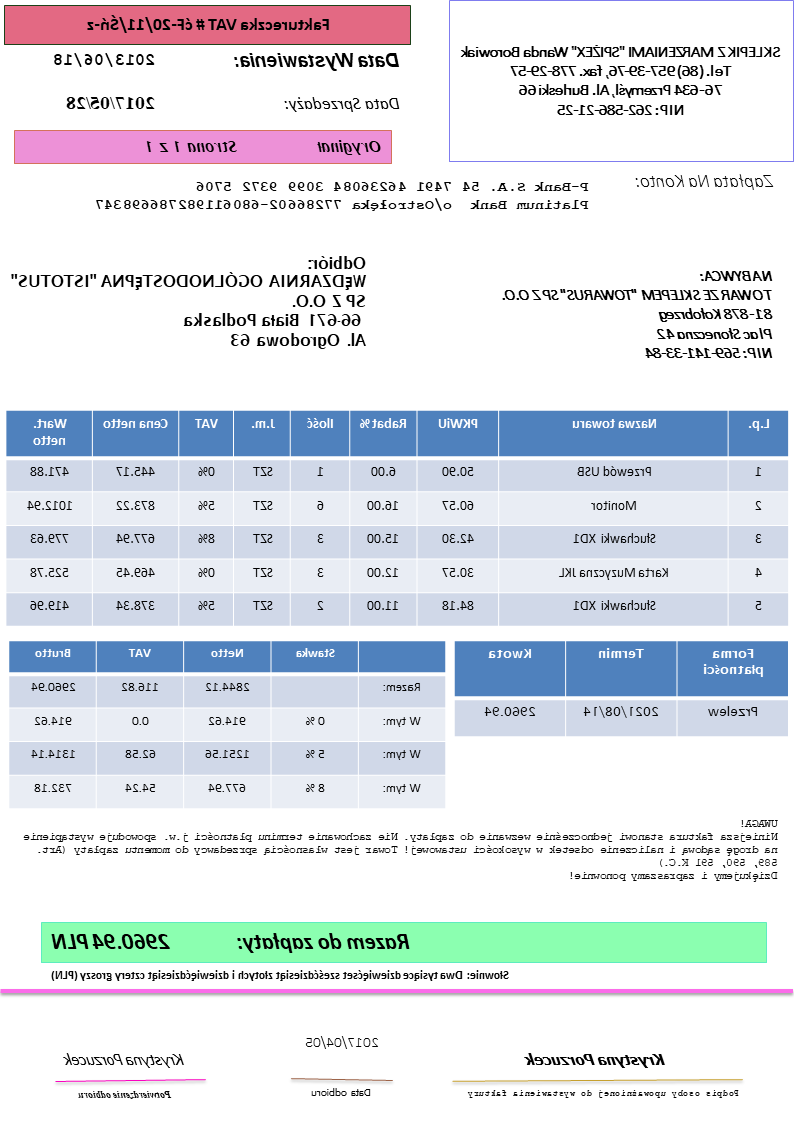Table: (4, 410, 790, 628), (6, 640, 447, 809), (454, 640, 791, 738)
TextBox: (21, 816, 782, 886), (8, 254, 368, 352), (497, 267, 777, 363), (459, 39, 784, 120), (91, 177, 592, 216), (49, 966, 512, 985), (49, 930, 413, 954), (84, 14, 332, 35), (467, 1085, 742, 1103), (141, 136, 381, 156), (231, 49, 401, 73), (632, 172, 777, 193), (522, 1051, 667, 1072), (61, 1049, 187, 1071), (283, 95, 402, 114), (52, 50, 157, 71), (303, 1030, 382, 1053), (66, 94, 156, 113), (75, 1088, 173, 1102), (308, 1084, 373, 1100)
